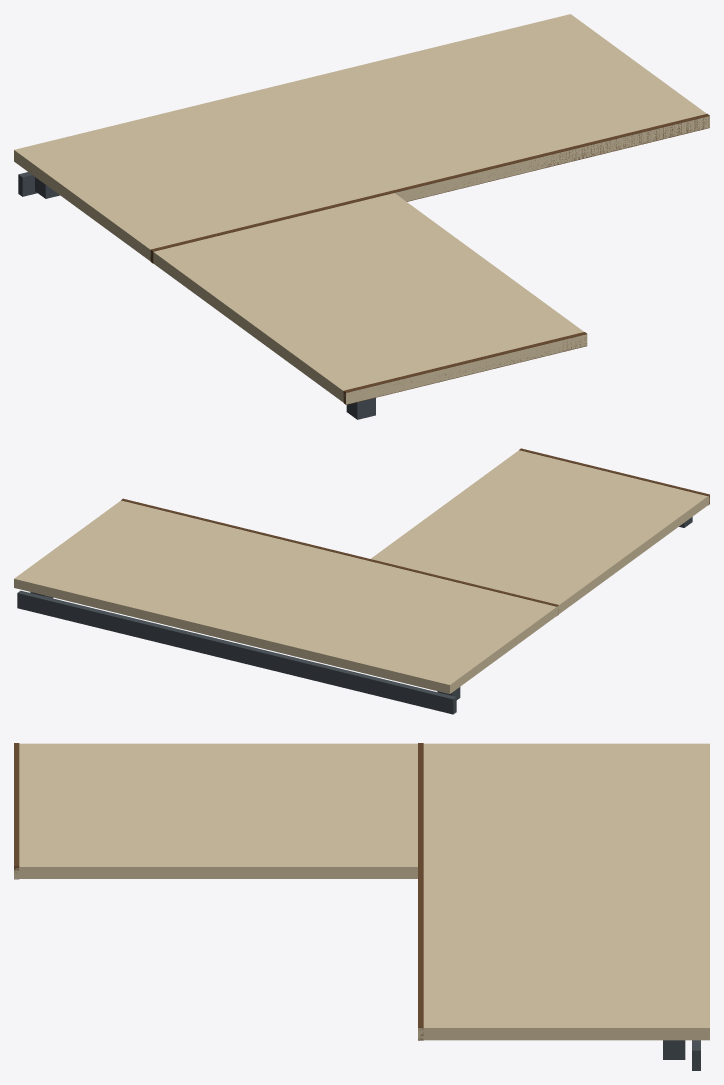
File: GO_Cubicle_Worksurface_01.glb
The picture shows the model from 3 angles, top to bottom: view 1: azimuth 30°, elevation 25°; view 2: azimuth 150°, elevation 25°; view 3: azimuth 270°, elevation 25°; orthographic projection. The views are drawn at different scales.
Parts seen in each view (by area): view 1: GO_Cubicle_Worksurface_01; view 2: GO_Cubicle_Worksurface_01; view 3: GO_Cubicle_Worksurface_01.
Part boxes in pixels (x1,y1,x2,y2): GO_Cubicle_Worksurface_01: [14, 14, 709, 419]; GO_Cubicle_Worksurface_01: [14, 448, 709, 714]; GO_Cubicle_Worksurface_01: [14, 743, 709, 1070].
Size of the model in its own units: 1.5 by 0.106 by 1.55.
Materials: 1 (1 with a texture image).
